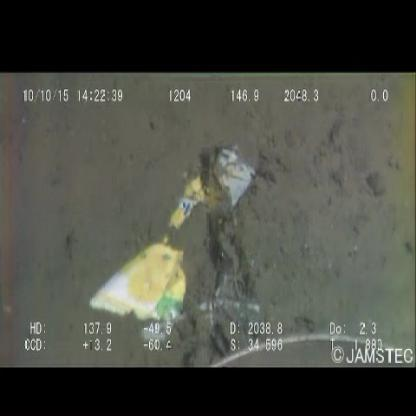Rác: (91, 144, 257, 324)
